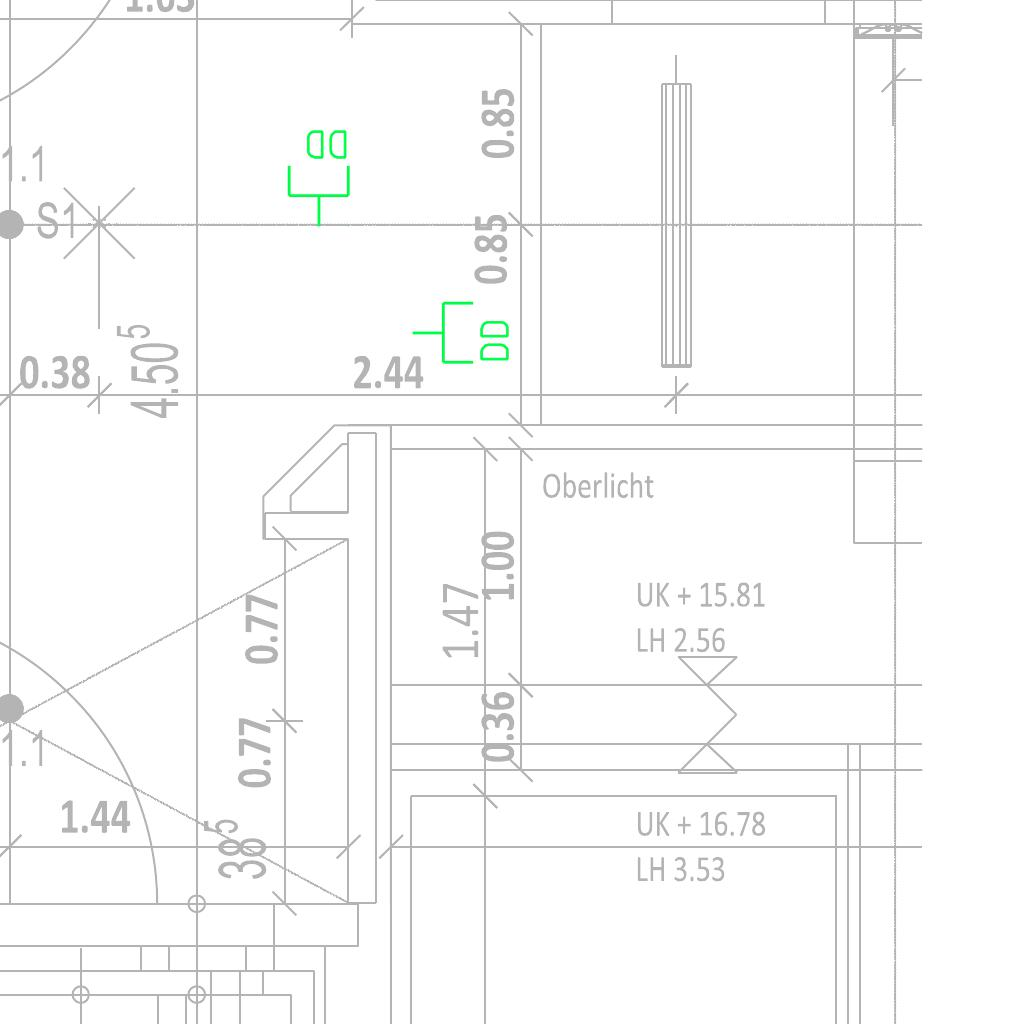Datenanschluss_zweifach: (285, 126, 354, 229), (410, 299, 513, 368)
